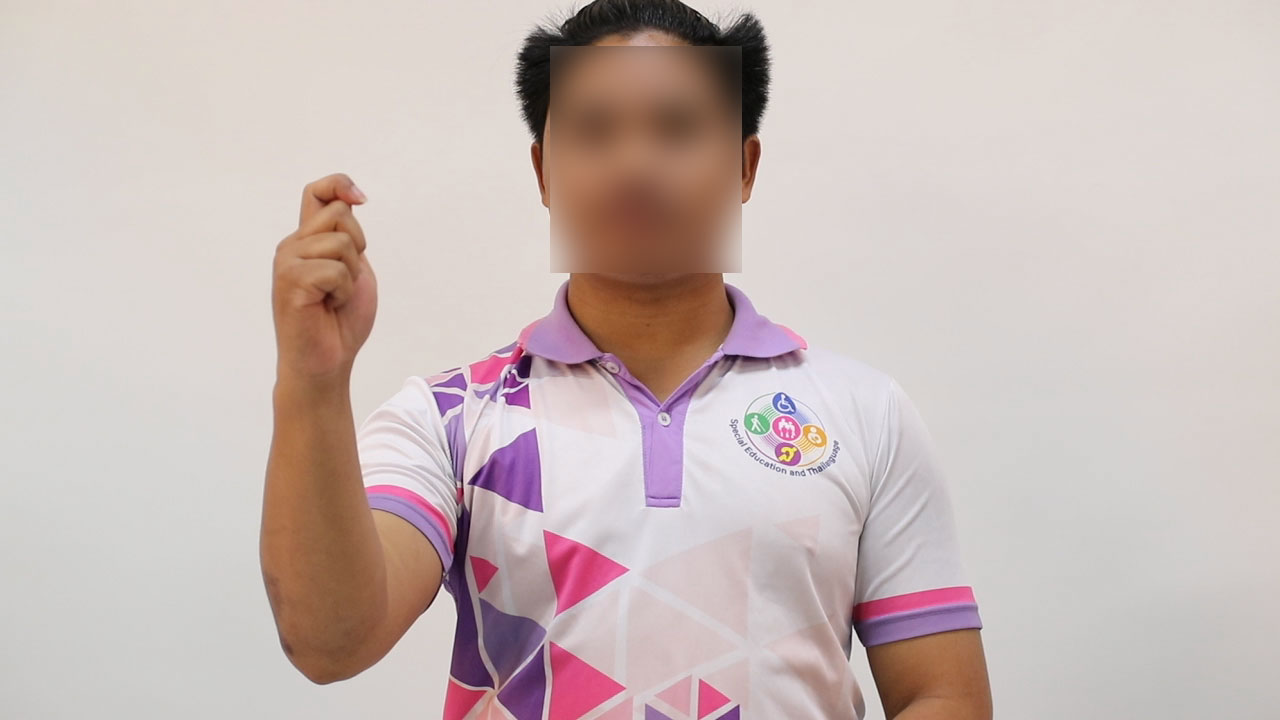or: (265, 169, 382, 390)
